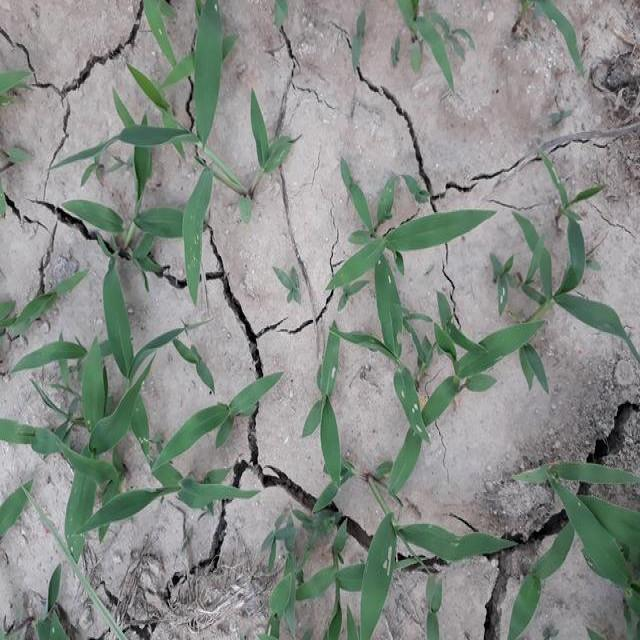weed: (310, 146, 532, 640), (21, 256, 261, 618), (98, 31, 244, 208)
